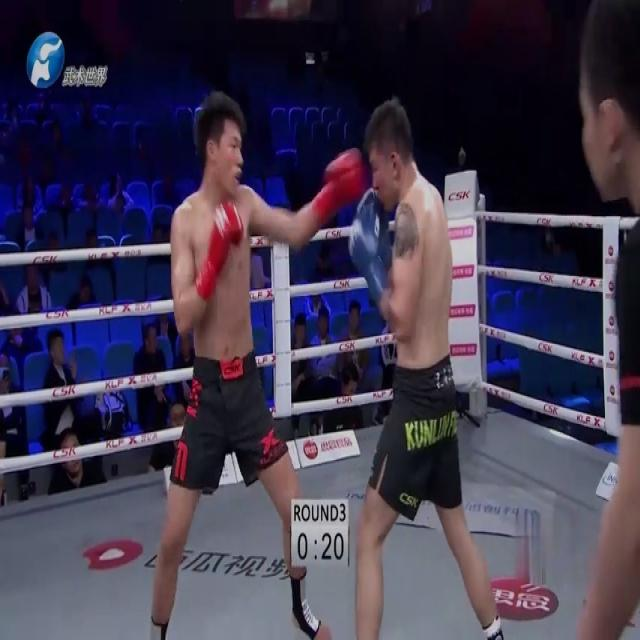fight: (149, 74, 503, 638)
